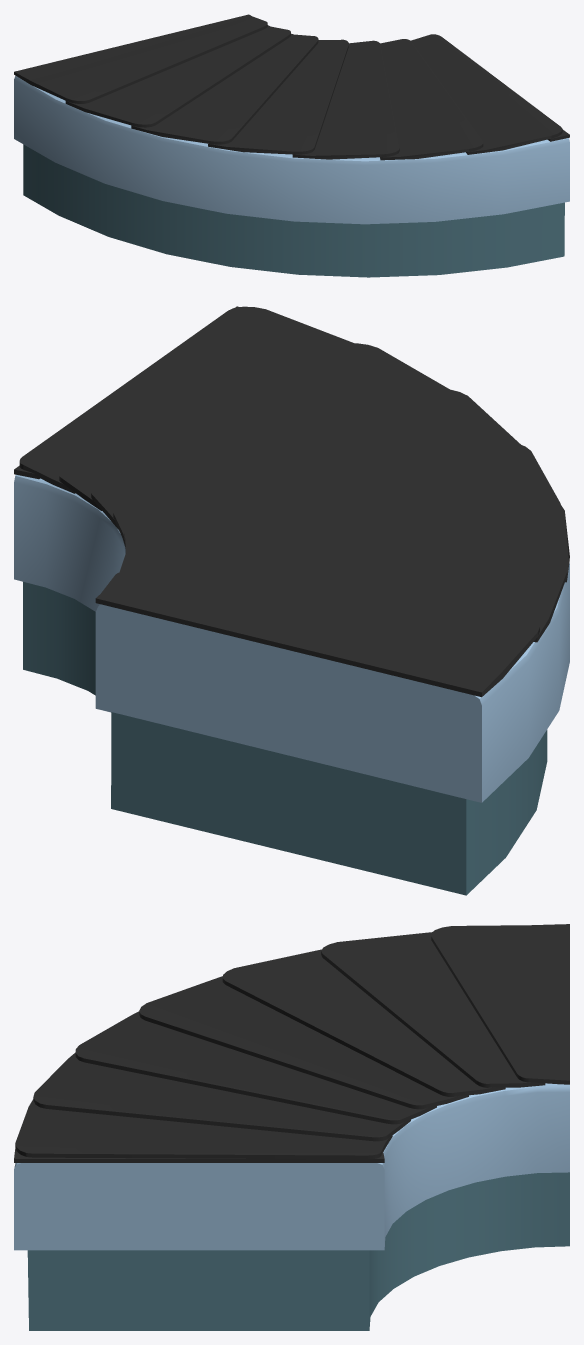
File: 12_4_BaggageClaimBand_AIRPORT_0.obj
3 views of the same model, one above another, from view 1: azimuth 30°, elevation 25°; view 2: azimuth 150°, elevation 25°; view 3: azimuth 270°, elevation 25° (orthographic). The views are drawn at different scales.
Visible parts, largest first — view 1: 12.4.BaggageClaimBand_AIRPORT_0; view 2: 12.4.BaggageClaimBand_AIRPORT_0; view 3: 12.4.BaggageClaimBand_AIRPORT_0.
Boxes of the visible parts, x1,y1,x2,y2 form: 12.4.BaggageClaimBand_AIRPORT_0: (14, 14, 569, 277); 12.4.BaggageClaimBand_AIRPORT_0: (14, 306, 569, 895); 12.4.BaggageClaimBand_AIRPORT_0: (14, 924, 569, 1330).
Bounding box in the file's own units: 2.63 × 0.9172 × 2.62.
1 material, 1 textured.
